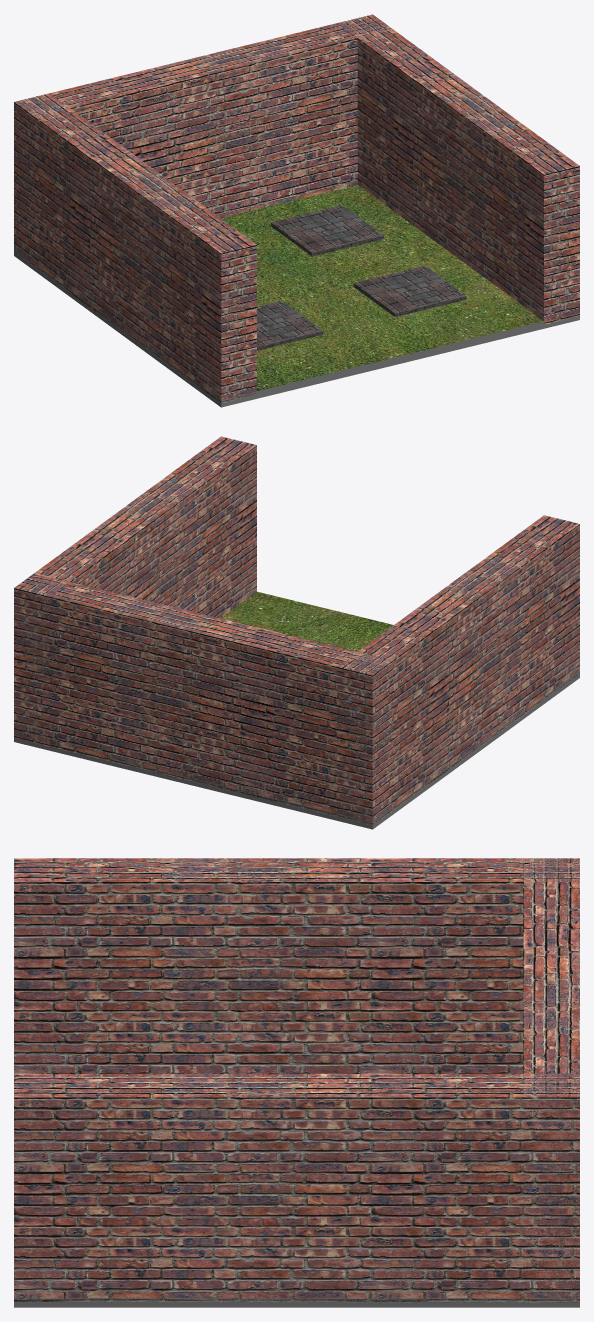
The picture shows the model from 3 angles, top to bottom: view 1: azimuth 30°, elevation 25°; view 2: azimuth 150°, elevation 25°; view 3: azimuth 270°, elevation 25°; orthographic projection. The views are drawn at different scales.
Visible parts, largest first — view 1: Gerade_Stein_SackGasse; view 2: Gerade_Stein_SackGasse; view 3: Gerade_Stein_SackGasse.
Part boxes in pixels (box(x1,y1,x2,y2)): Gerade_Stein_SackGasse: box(14, 14, 579, 407); Gerade_Stein_SackGasse: box(14, 436, 579, 829); Gerade_Stein_SackGasse: box(14, 858, 579, 1307).
Size of the model in its own units: 5 by 2.05 by 5.
9 materials, 8 textured.
